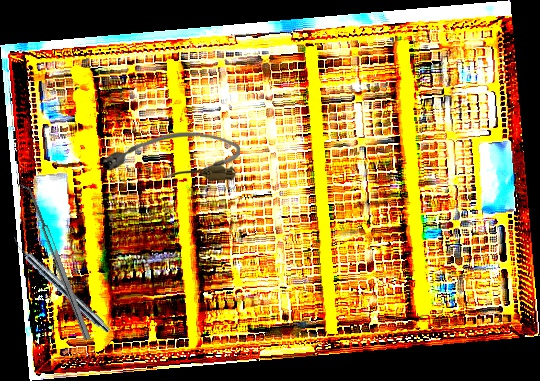Cannula: (102, 130, 241, 182)
Handpiece: (7, 235, 114, 335)
Spatula Surgical: (18, 180, 91, 343)
